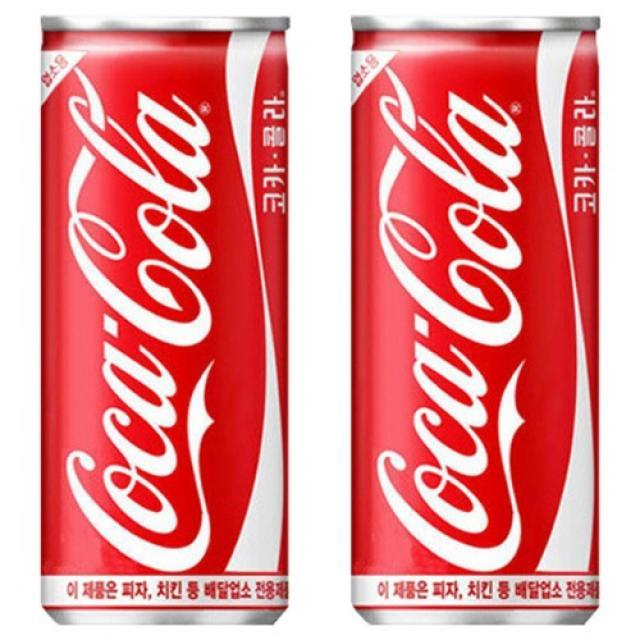coca-cola: (340, 8, 608, 634), (36, 9, 296, 632)
